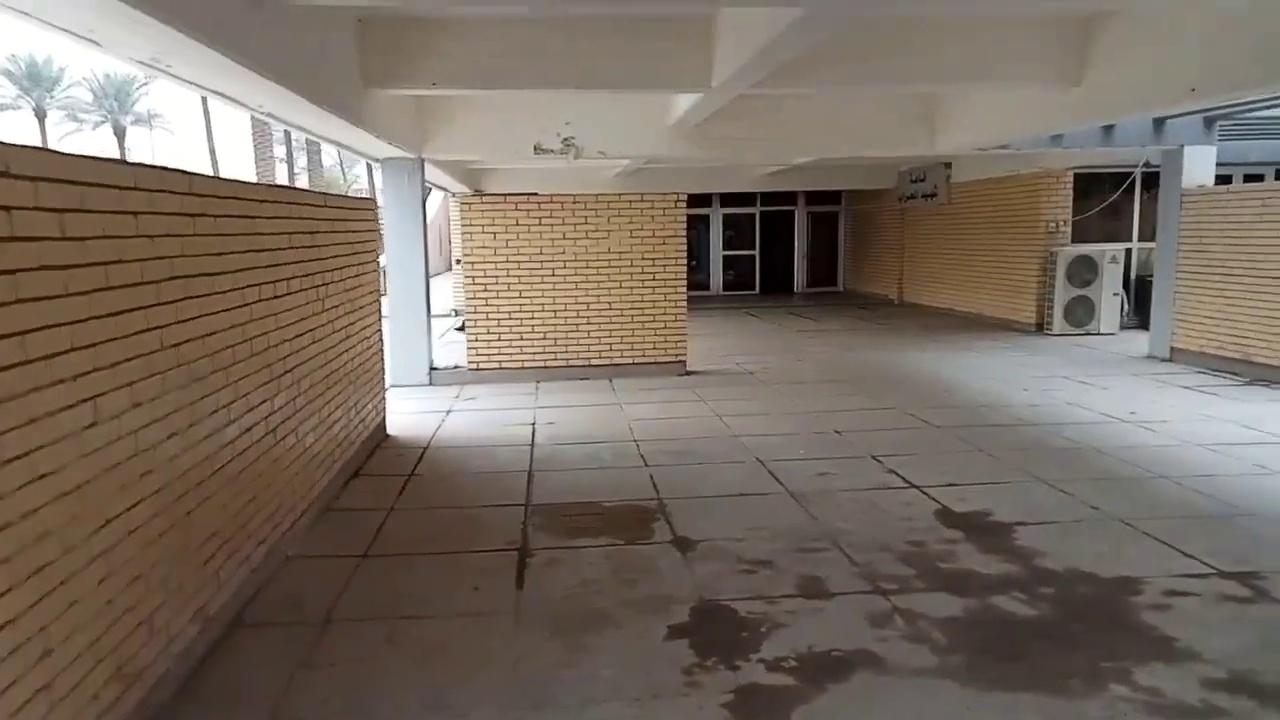tree: (68, 68, 169, 162), (1, 50, 82, 149), (199, 94, 220, 177), (328, 147, 360, 195), (144, 107, 170, 163), (304, 137, 325, 190), (279, 128, 298, 186), (364, 160, 376, 200)
